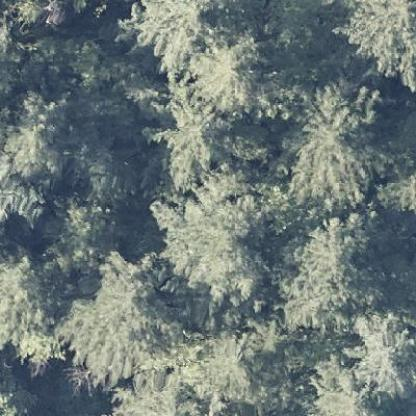tree-top: (159, 168, 289, 298), (70, 250, 190, 376), (278, 215, 387, 331), (289, 79, 380, 206), (0, 246, 56, 372), (336, 0, 415, 83), (351, 308, 415, 400), (10, 95, 82, 176)
